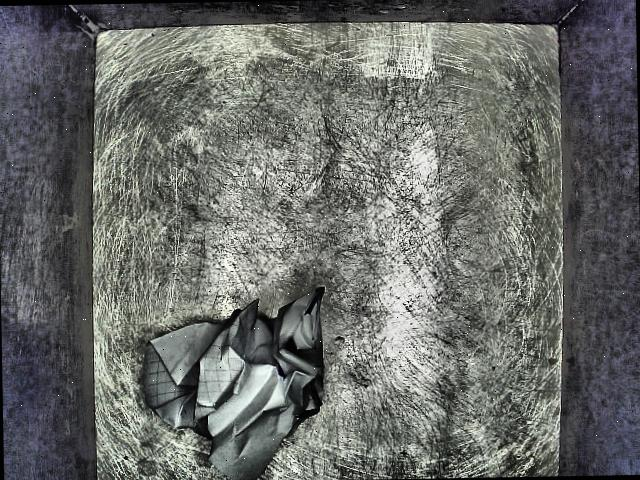Paper: (125, 271, 355, 480)
